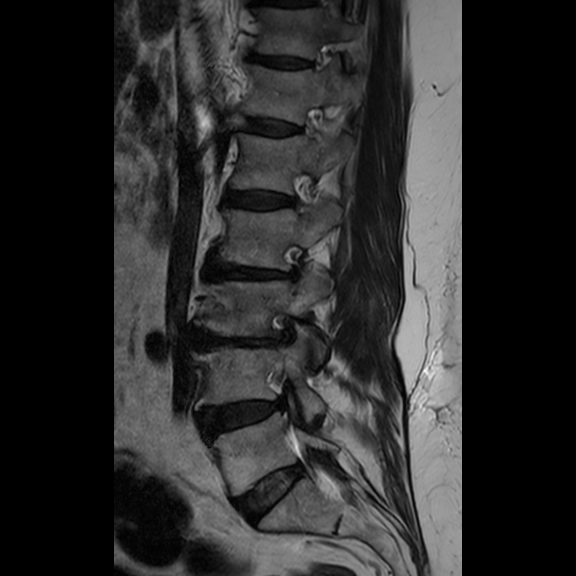RFS0: (286, 158, 327, 222)
RFS2: (266, 233, 313, 290)
RFS3: (259, 300, 302, 358)
